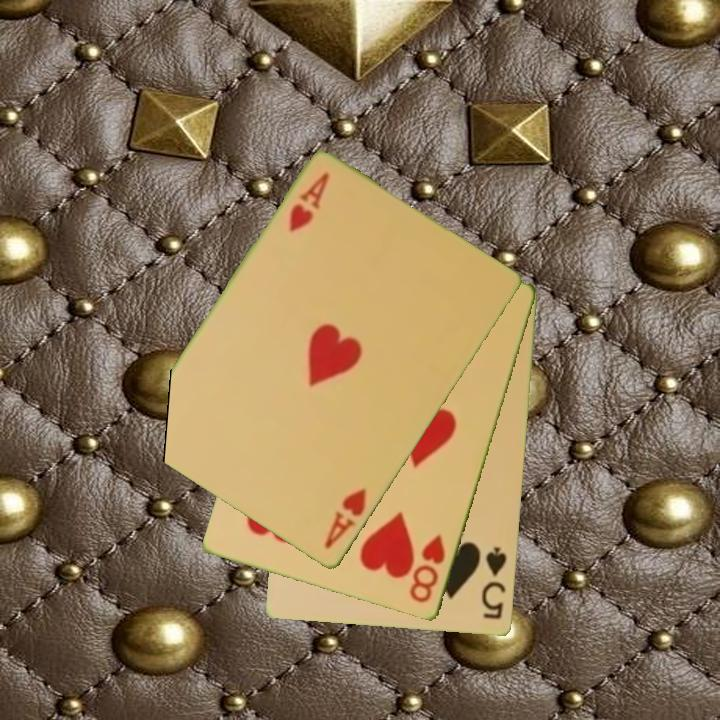5s: (478, 544, 510, 623)
8h: (406, 531, 449, 606)
Ah: (321, 485, 370, 553), (285, 169, 333, 236)
